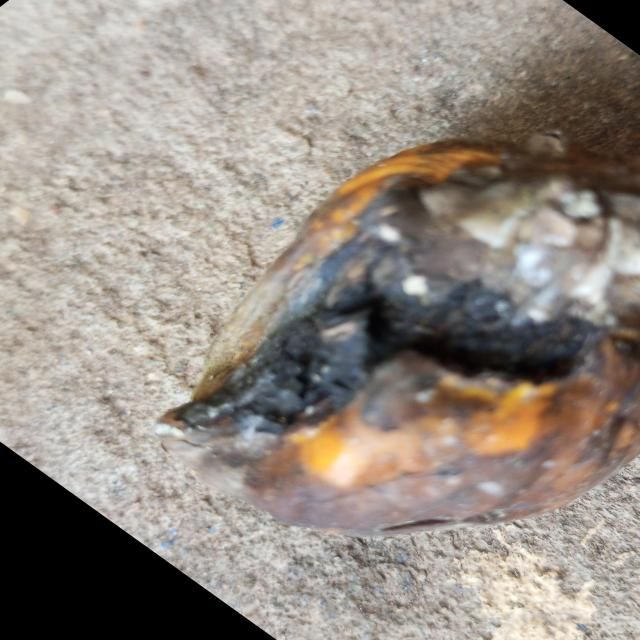damaged: (152, 131, 640, 537)
